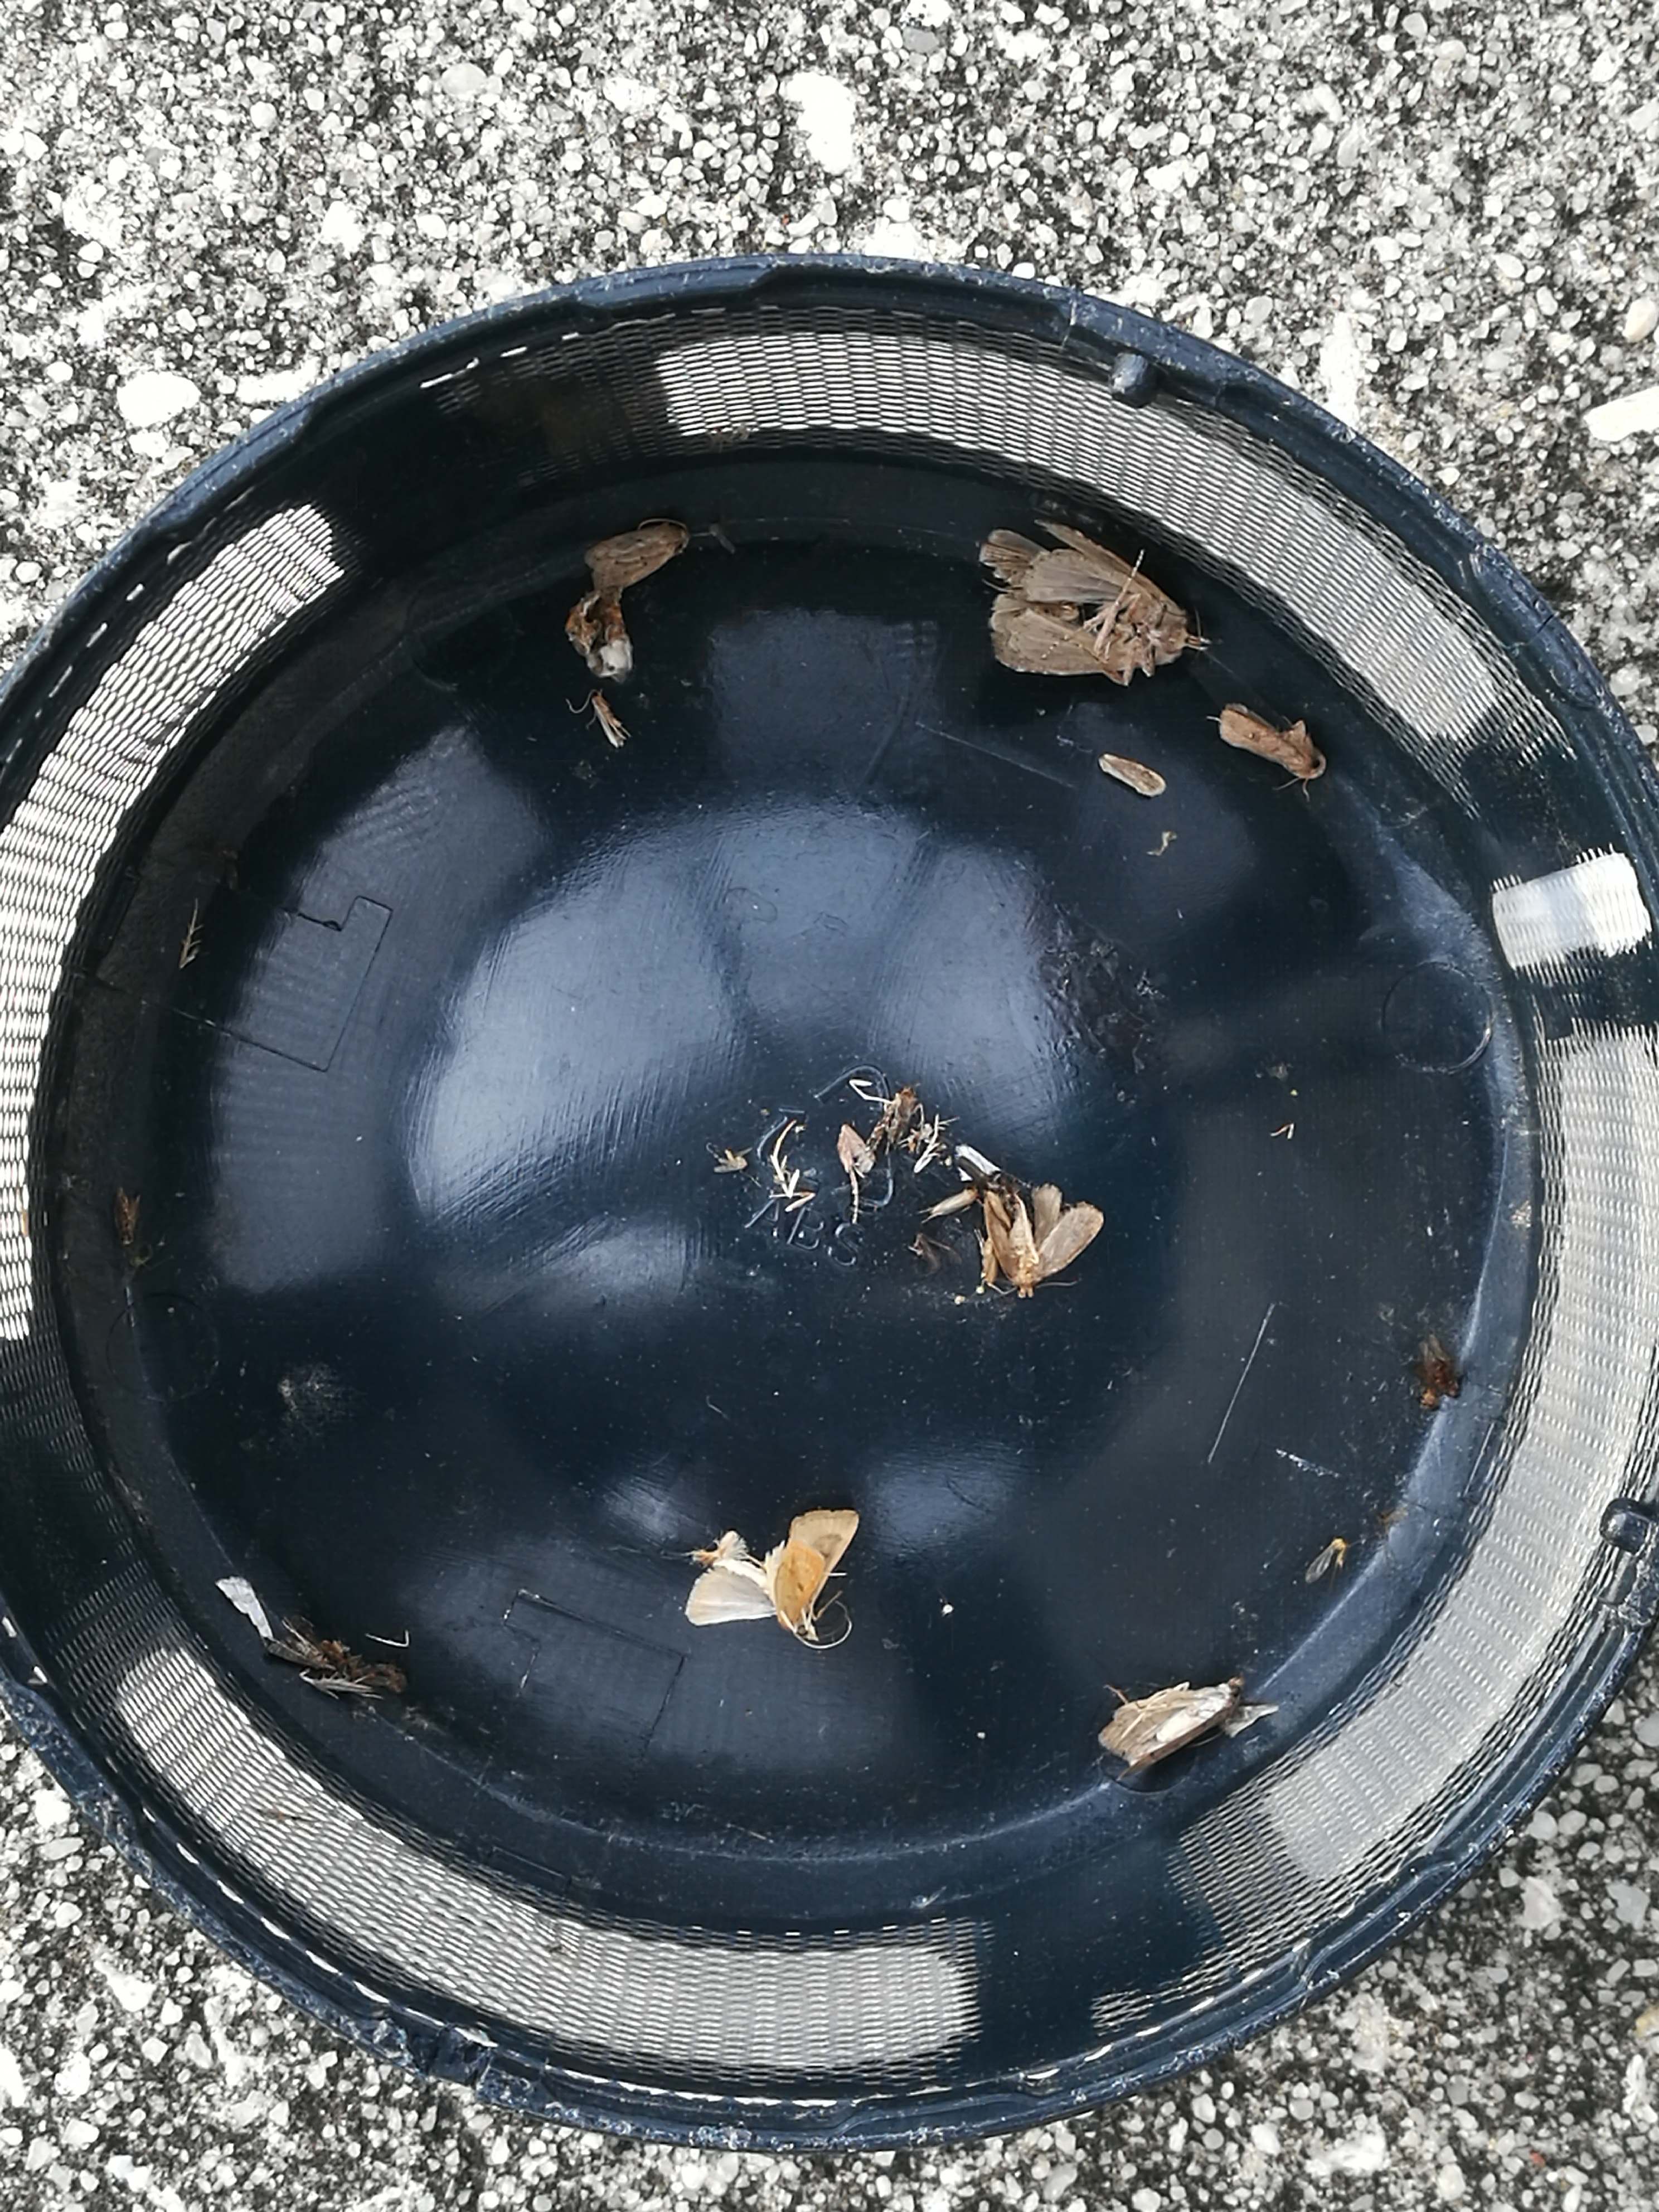moth: (978, 531, 1185, 676), (687, 1508, 863, 1641), (1098, 1677, 1246, 1764), (985, 1186, 1103, 1289), (1218, 707, 1326, 779), (586, 524, 683, 597)
